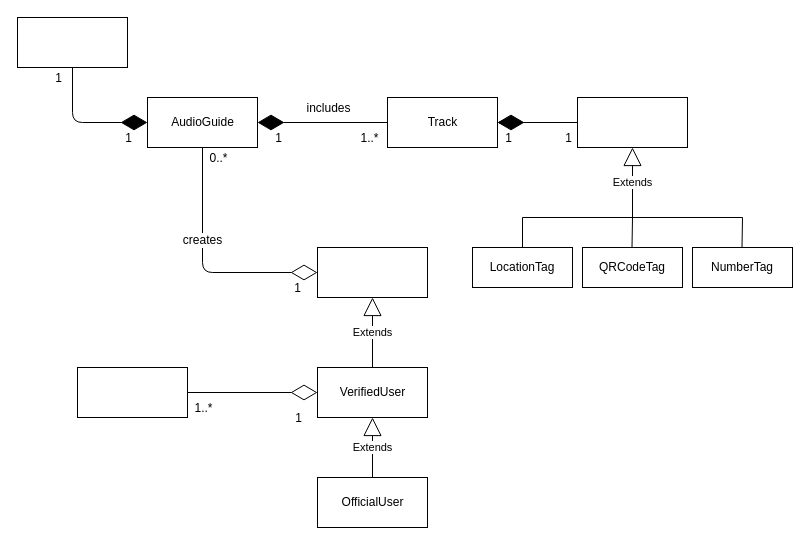
The diagram is 810 pixels wide and 545 high, and some of its shapes have lost their labels. The shapes that lost their labels are listed below. From the top down, each one's box as (x1, y1, x2, y2) in pixels, then its label:
(16, 16, 128, 68): «enumeration» Status
(576, 96, 688, 148): Tag
(316, 246, 428, 298): User
(76, 366, 188, 418): PaymentMethod
